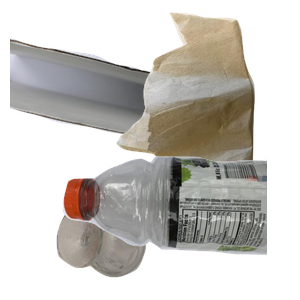cardboard: (10, 35, 250, 188)
glass: (54, 202, 193, 300)
plastic: (60, 152, 300, 300)
trash: (114, 10, 300, 189)
